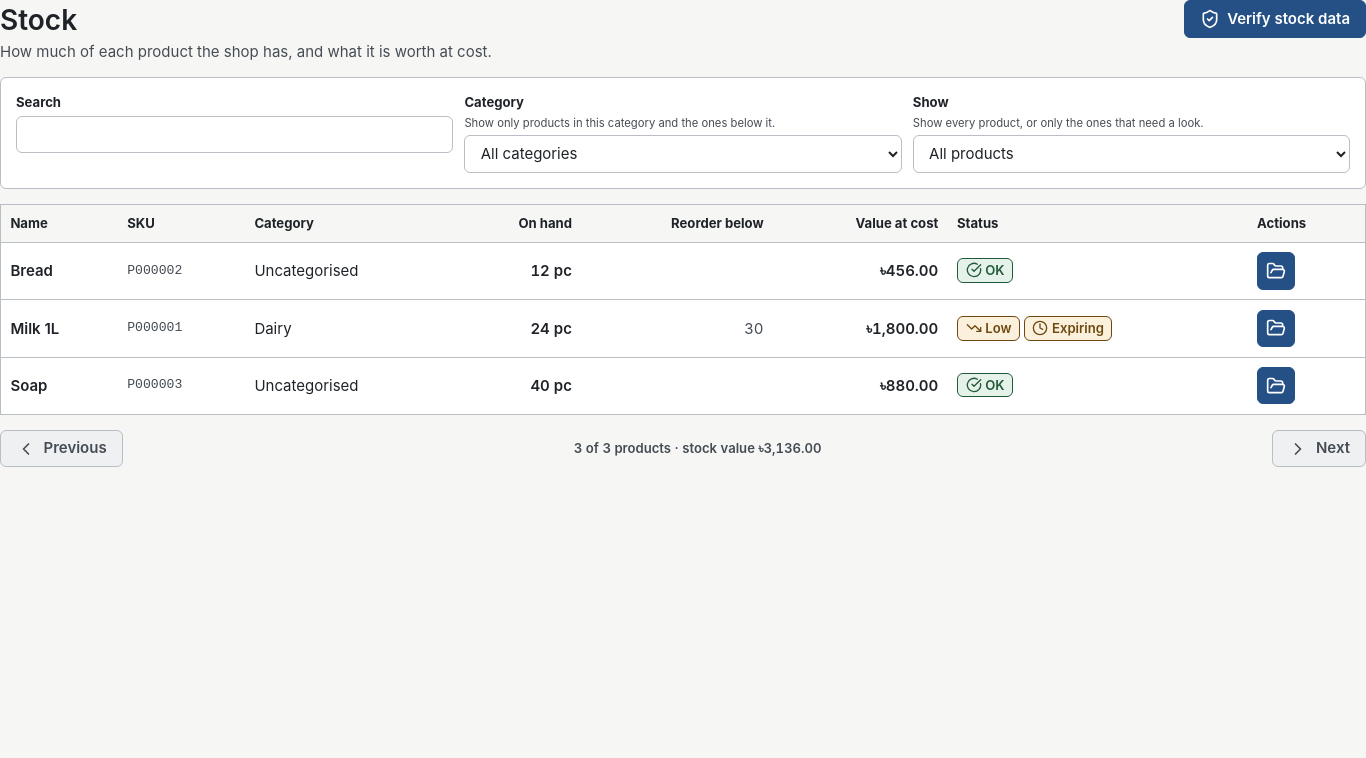
Test: StockProductPage (fake bridge) › inv_02: the reason Other needs a note
This screenshot has width=1366, height=758.
Click the button named "Open the stock and history of Bread" at [1276, 271], box [1257, 252, 1295, 290]
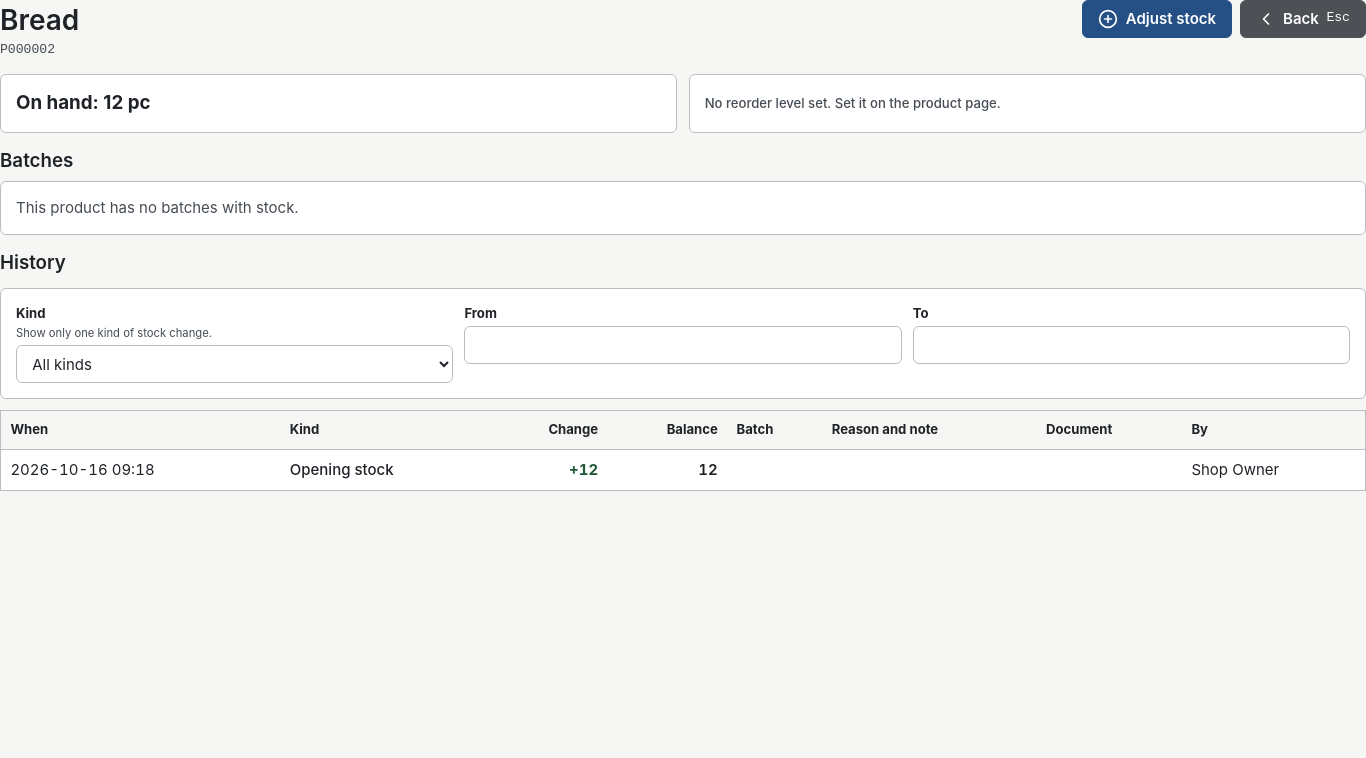
Check: the heading "Bread" is shown, box [0, 0, 79, 41]
Click the button "Adjust stock" at [1157, 19], box [1082, 0, 1232, 38]
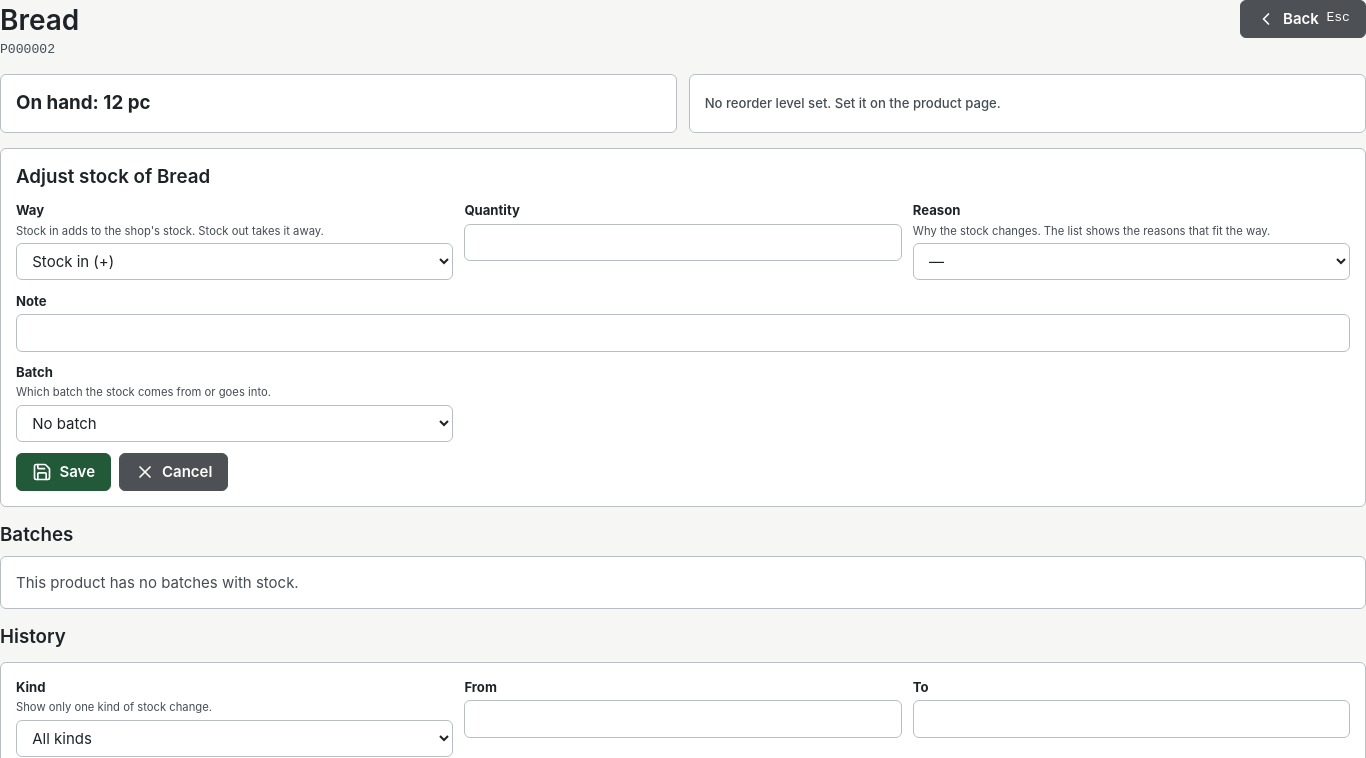
Type "1" into the field labelled "Quantity" at [683, 242], box [464, 224, 902, 261]
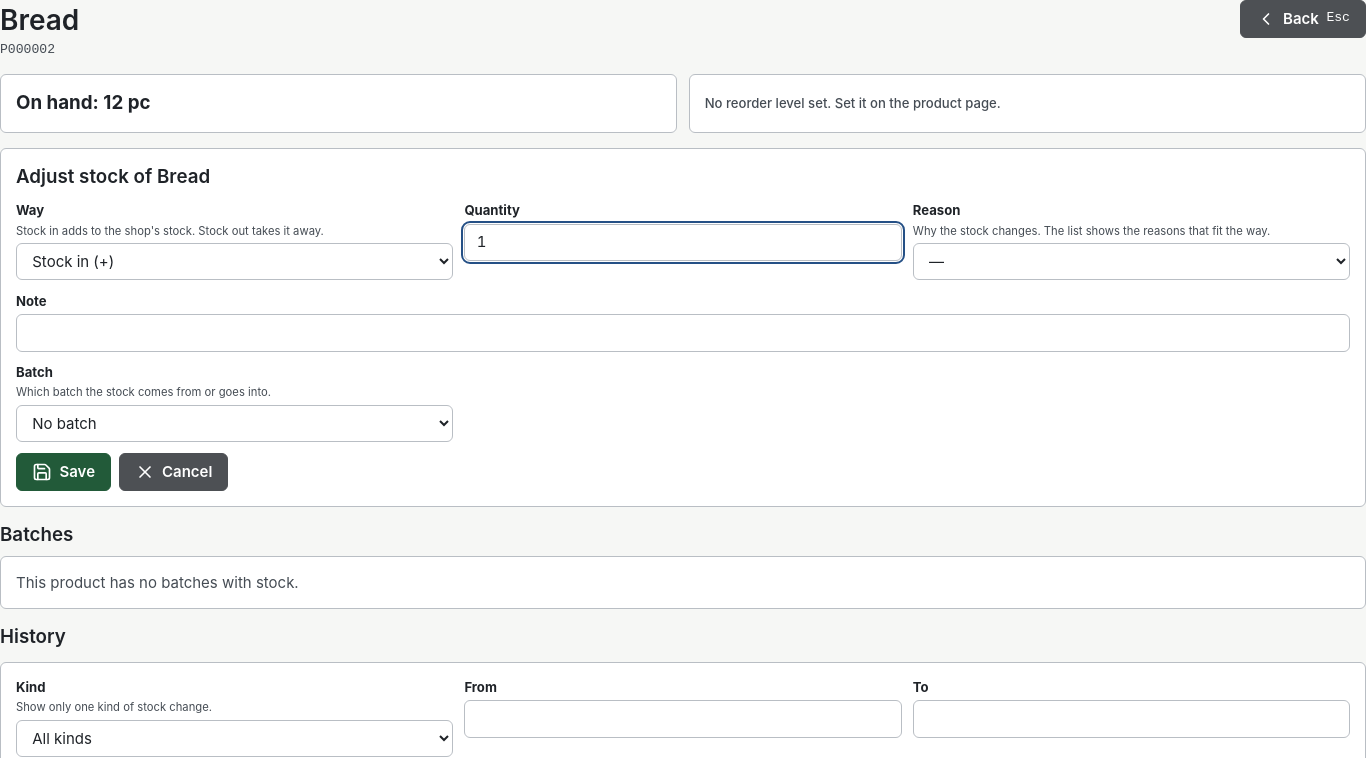
Select "Other" in the dropdown labelled "Reason" at [1131, 262], box [913, 243, 1350, 280]
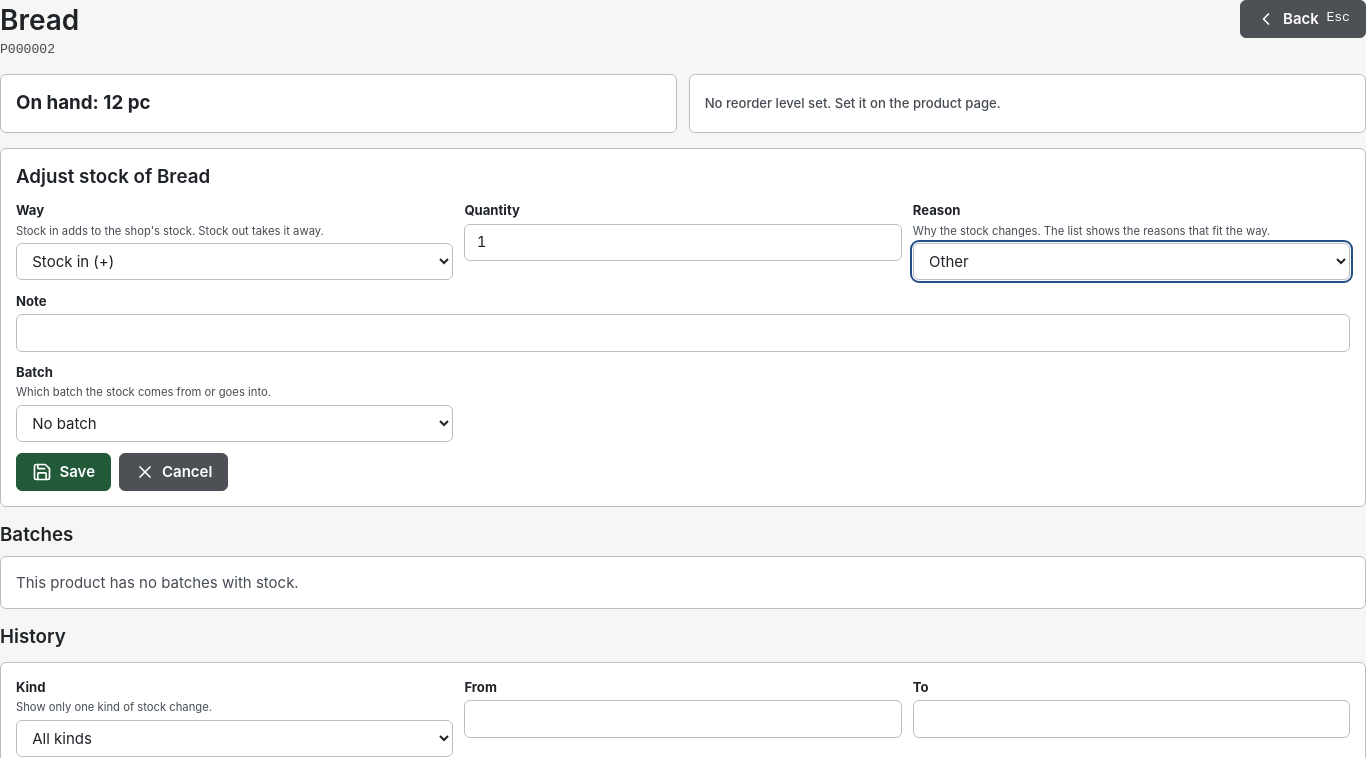
Click the button "Save" at [64, 472], box [16, 453, 111, 491]
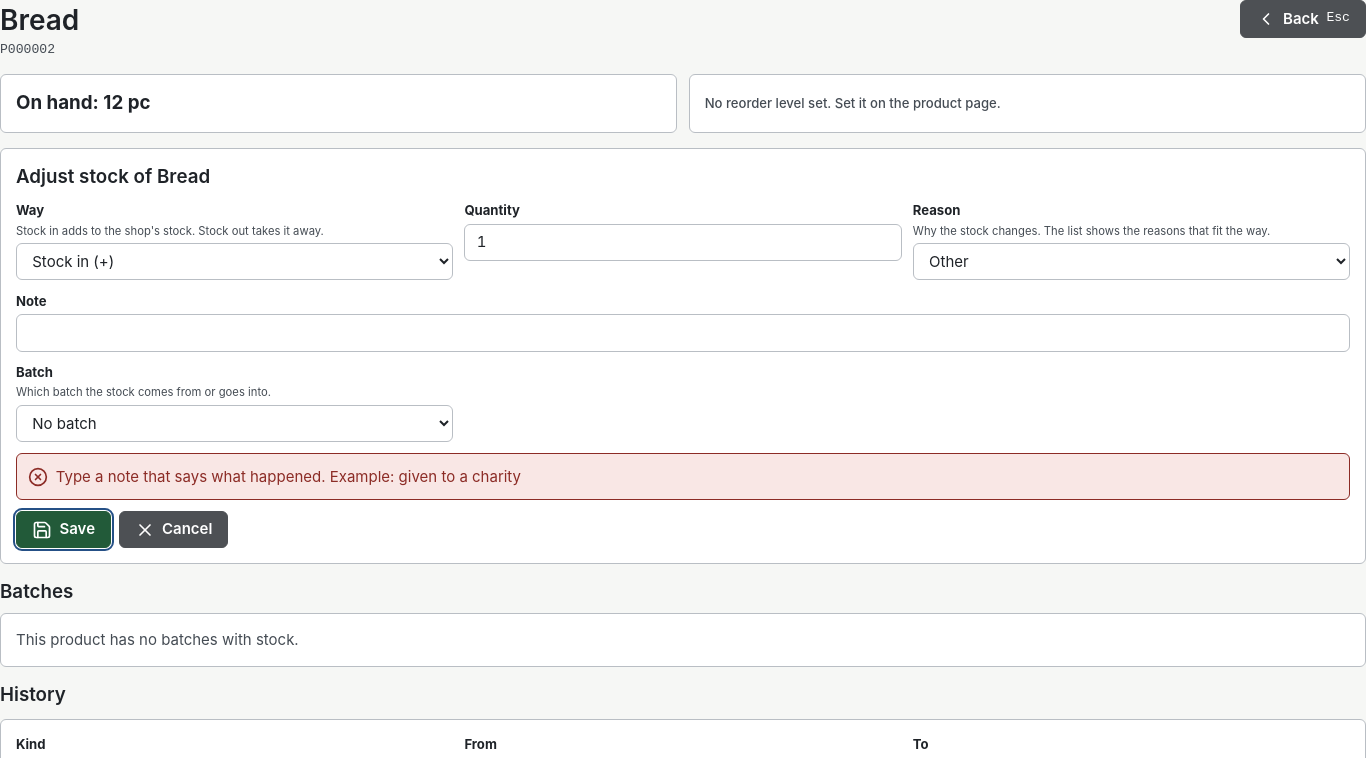
Check: the text "Type a note that says what happened" is shown, box [56, 466, 521, 486]
